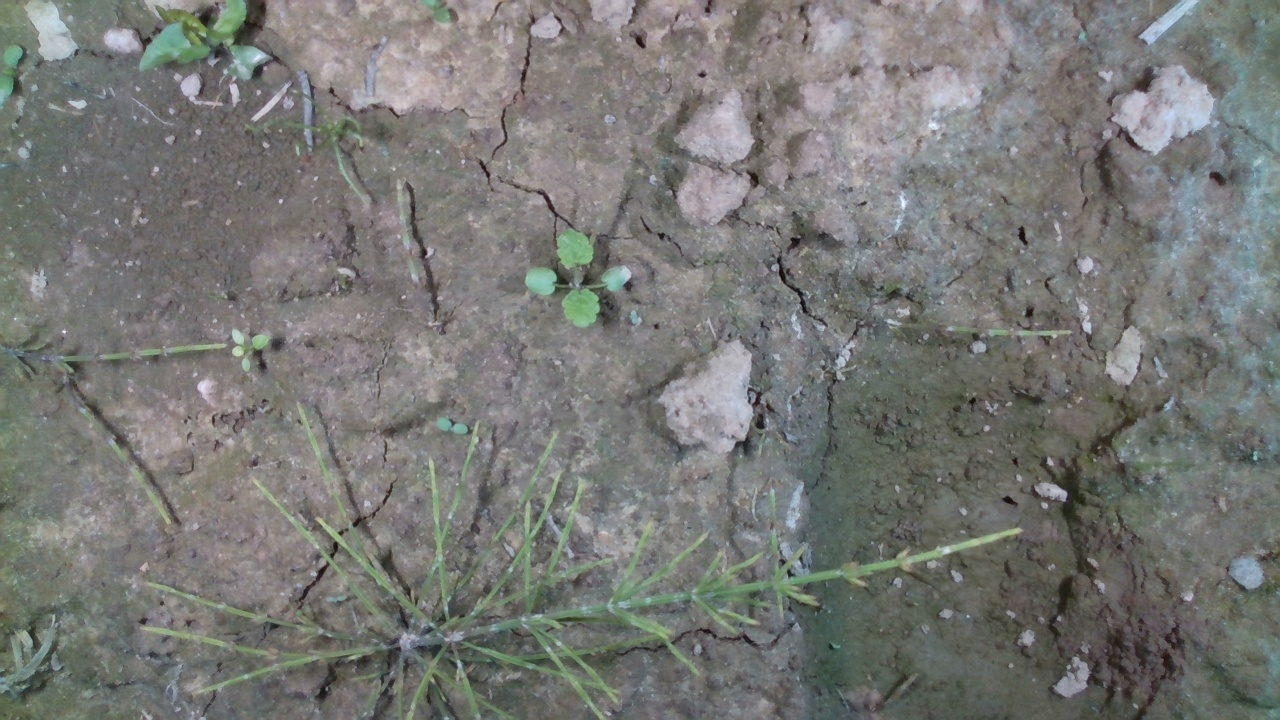weed: (525, 232, 634, 328), (228, 328, 270, 372), (434, 416, 469, 435)
